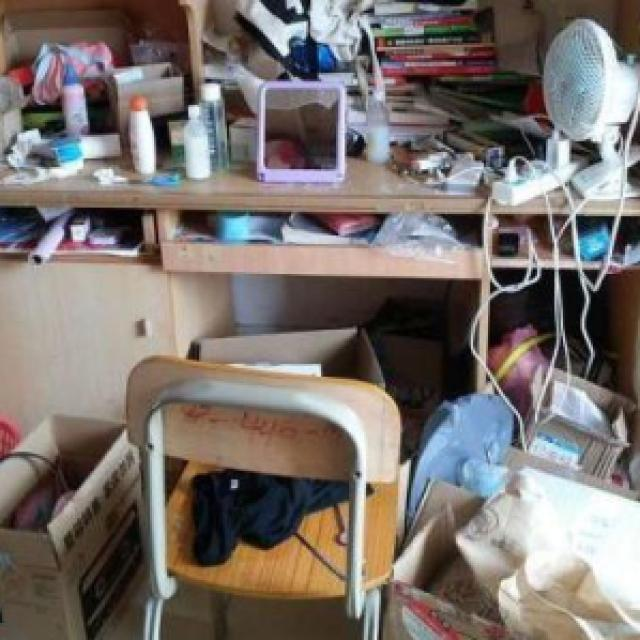mess: (379, 284, 640, 640), (274, 0, 640, 178), (0, 0, 224, 178)
